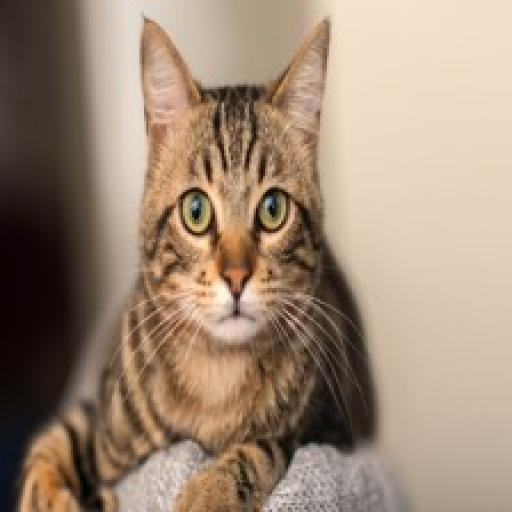cat: (0, 12, 382, 512)
